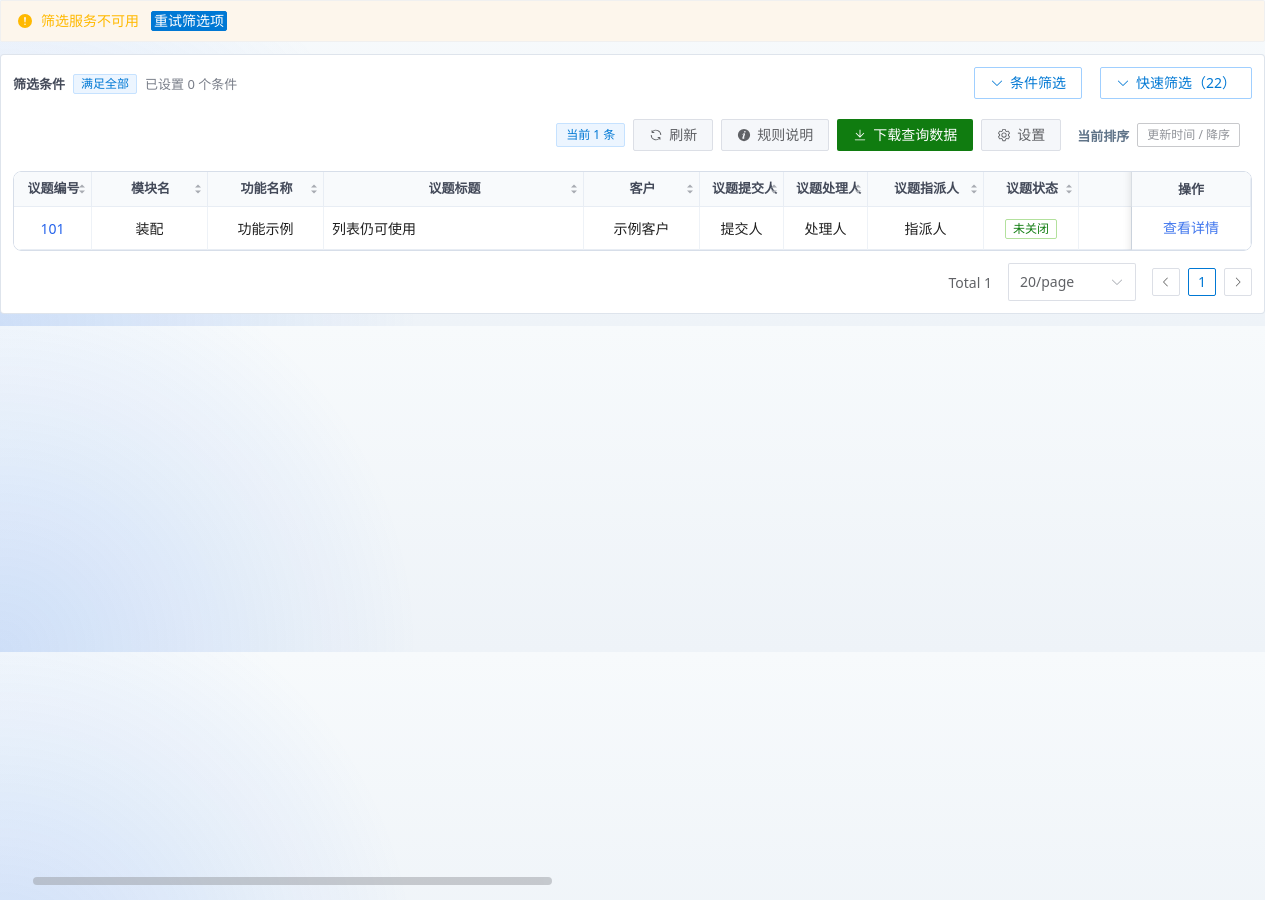
Scenario: CustomerIssueRecordsView loading lifecycle › keeps a filter error visible and retries only the failed resource
What coordinates should you click on to do the following:
click the button "重试筛选项"
I would click on:
 (189, 21)
Its box is [151, 11, 227, 31].
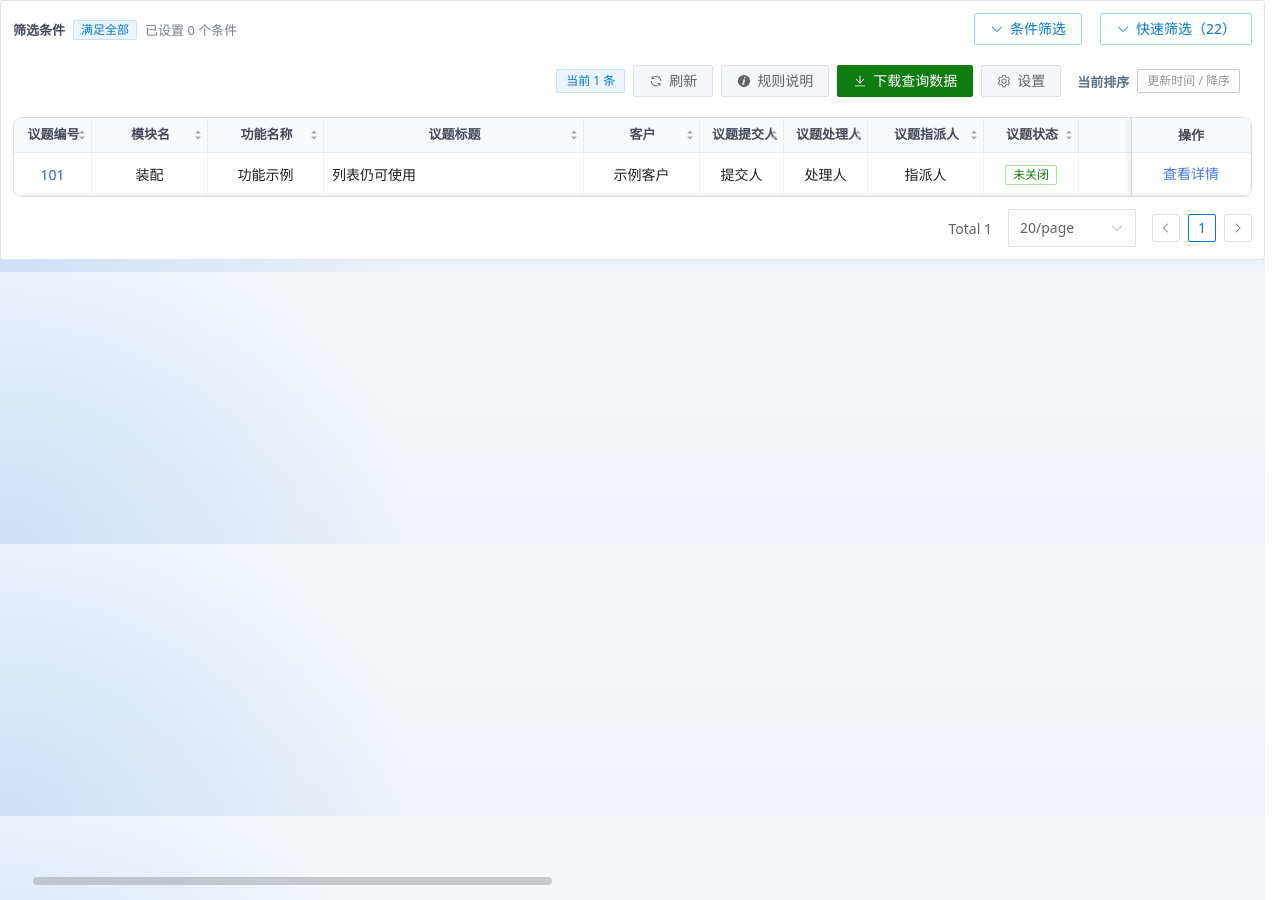
Now the text "筛选服务不可用" is gone
